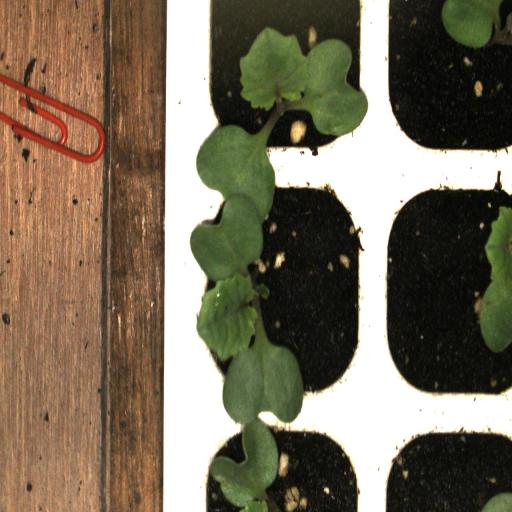seedling: (192, 172, 377, 418), (188, 0, 376, 174)
